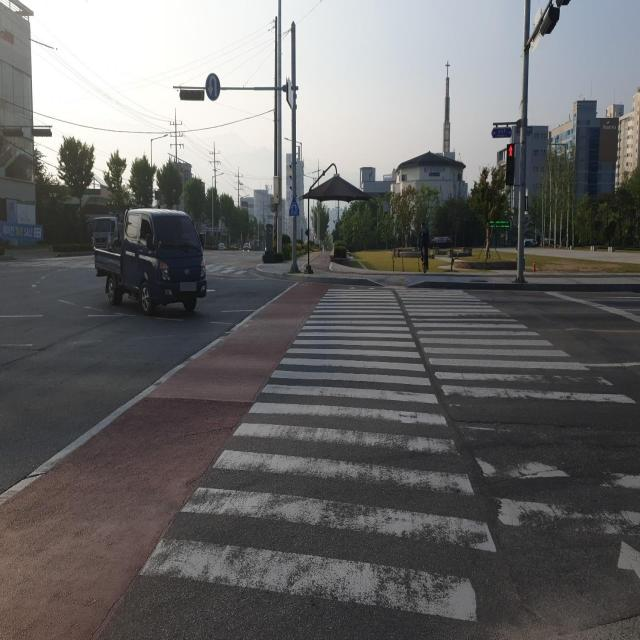빨간불: (505, 142, 515, 187)
횡단보도: (165, 285, 640, 619)
